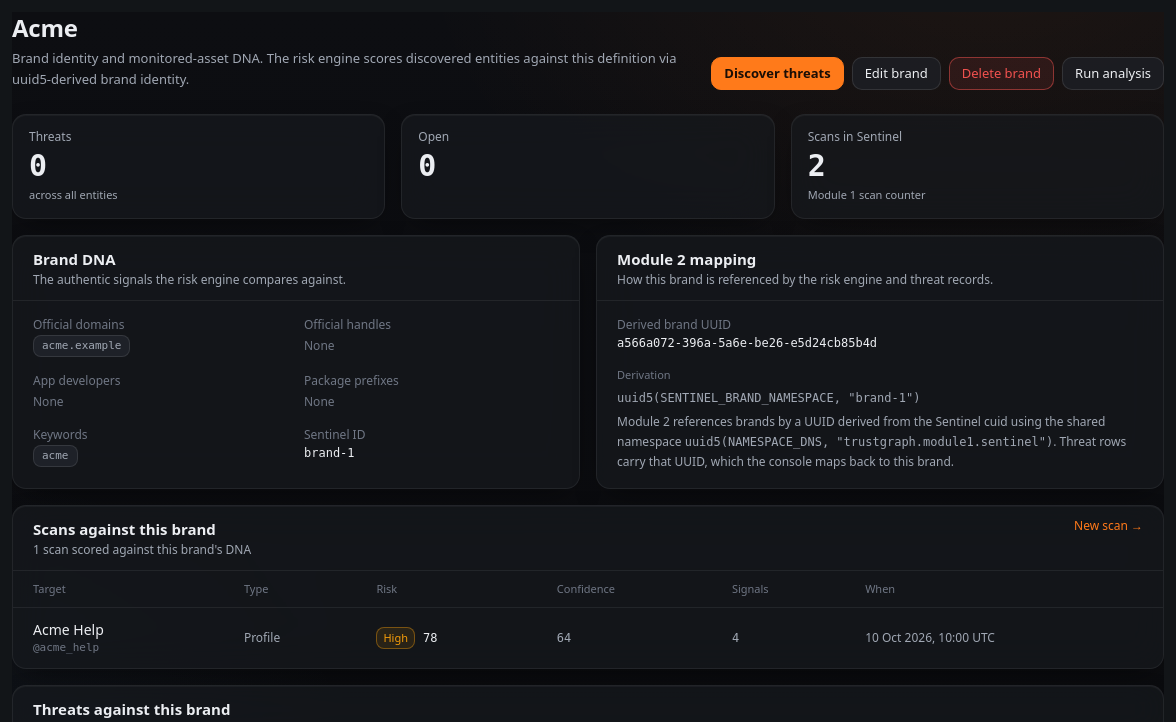
it: BrandDetail › shows brand DNA, brand-scoped scans and a prefilled edit form
This screenshot has width=1176, height=722.
Expected: the heading "Brand DNA" is shown, [33, 249, 116, 269]
Expected: the text "acme.example" is shown, [33, 335, 130, 357]
What coordinates should you click on to do the following:
click the button "Edit brand"
I would click on:
 (896, 74)
Its box is [852, 57, 941, 90].
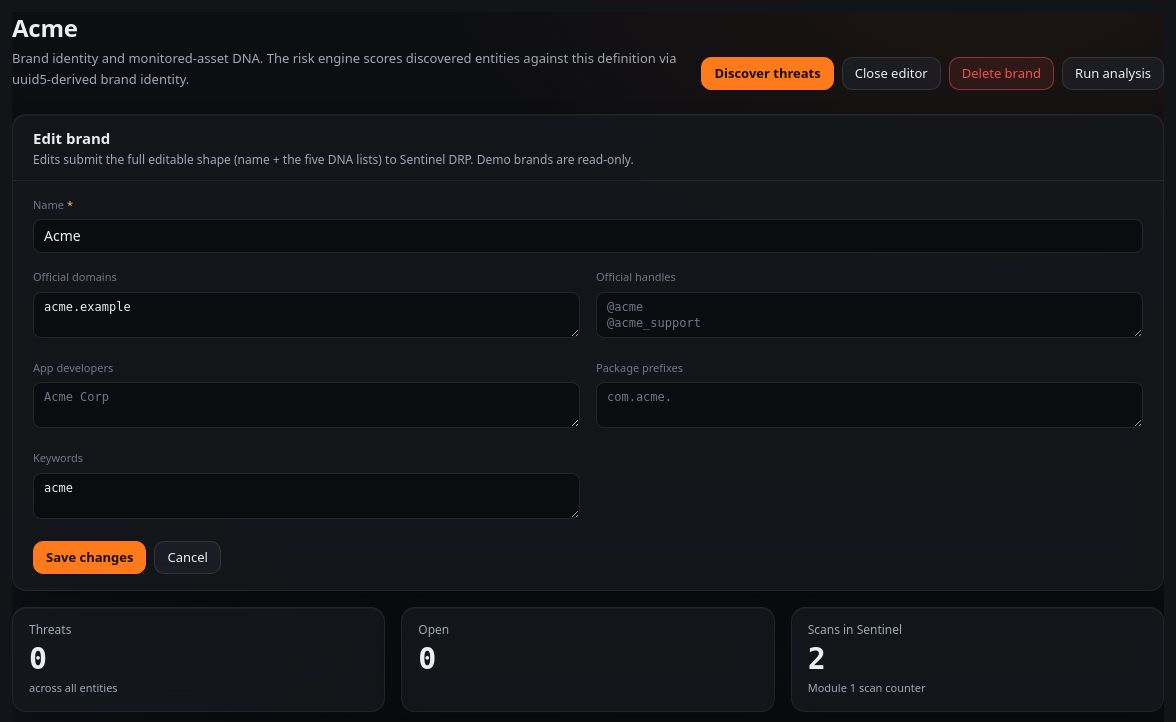
Expected: the field labelled "Name *" holds "Acme", [33, 219, 1143, 253]
Expected: the text box labelled "Official domains" holds "acme.example", [33, 292, 580, 338]
